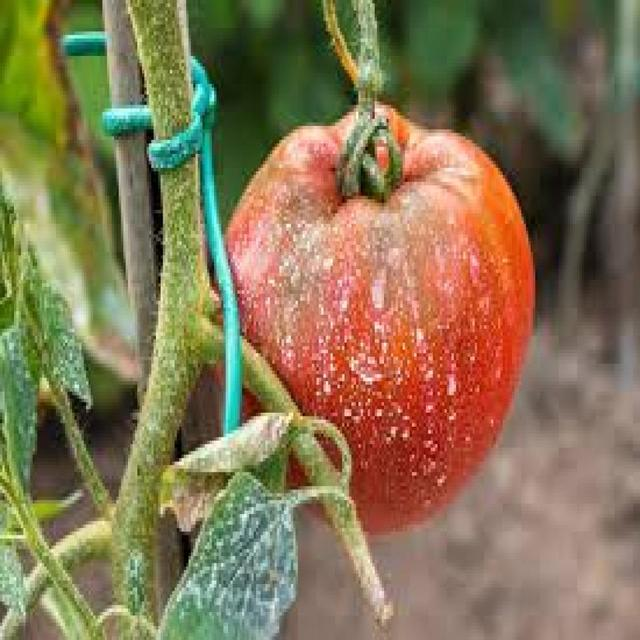Spotted wilt Virus Fruit: (145, 63, 359, 356)
